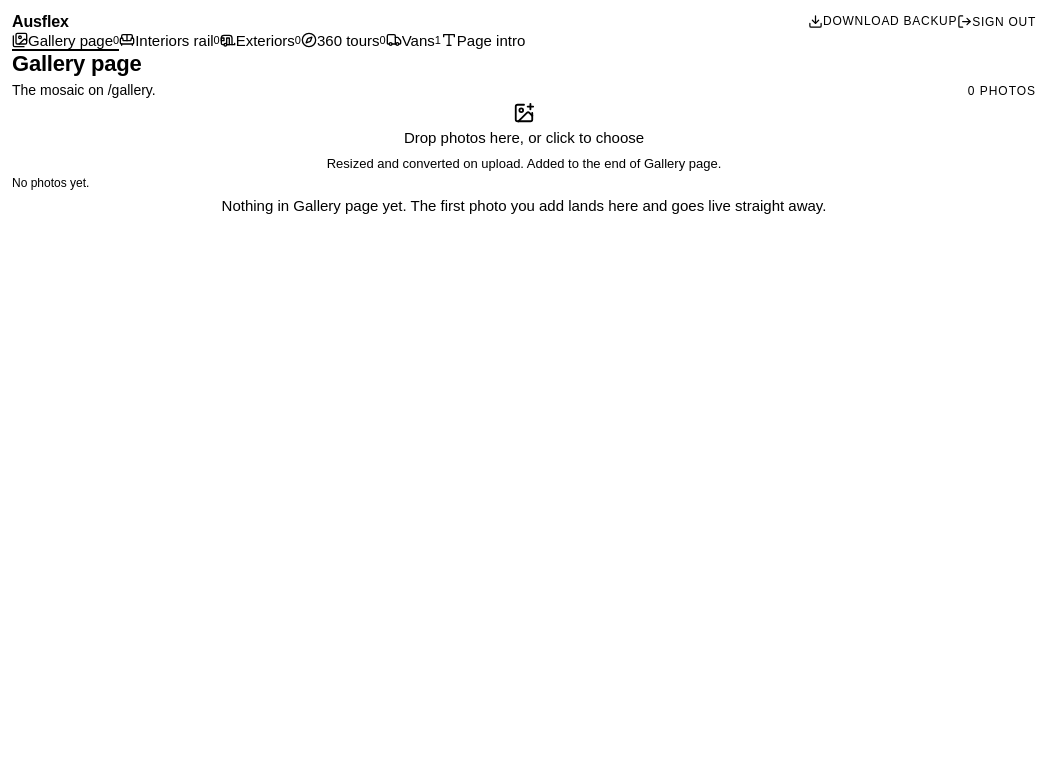
Test: AdminPage — vans › opens the editor with the van already filled in
Step 1. Click the tab "Vans 1" → (413, 41), box left=386, top=32, right=441, bottom=51
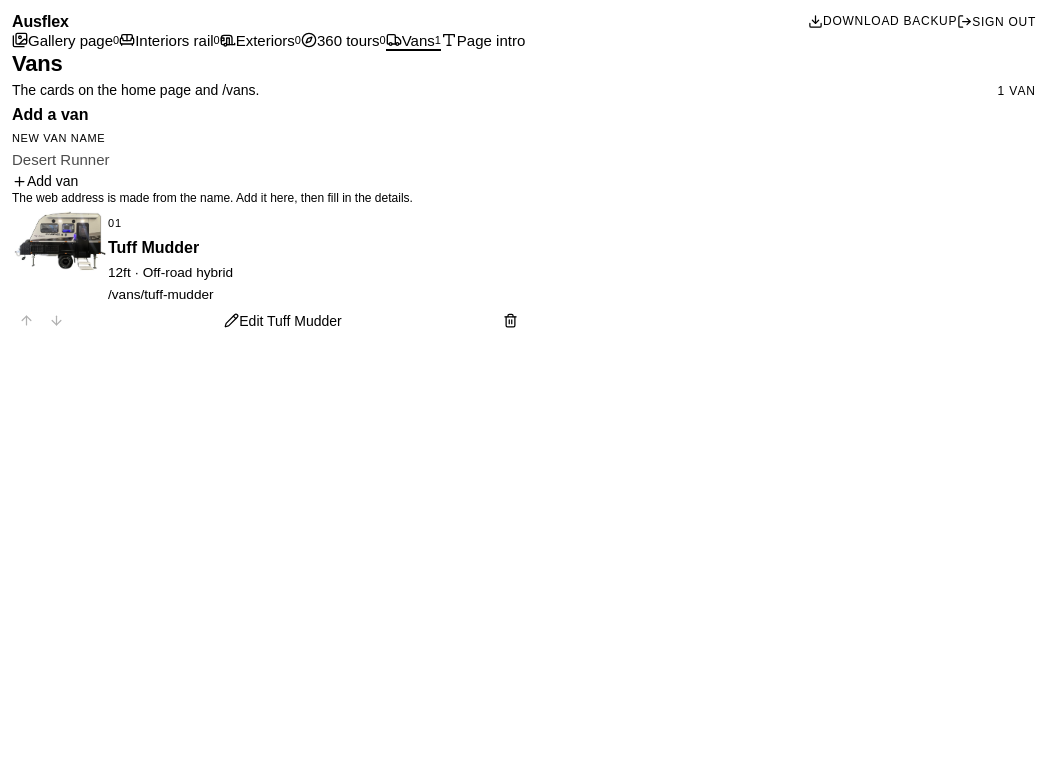
Step 2. Click the button "Edit Tuff Mudder" → (283, 321), box left=224, top=313, right=342, bottom=329
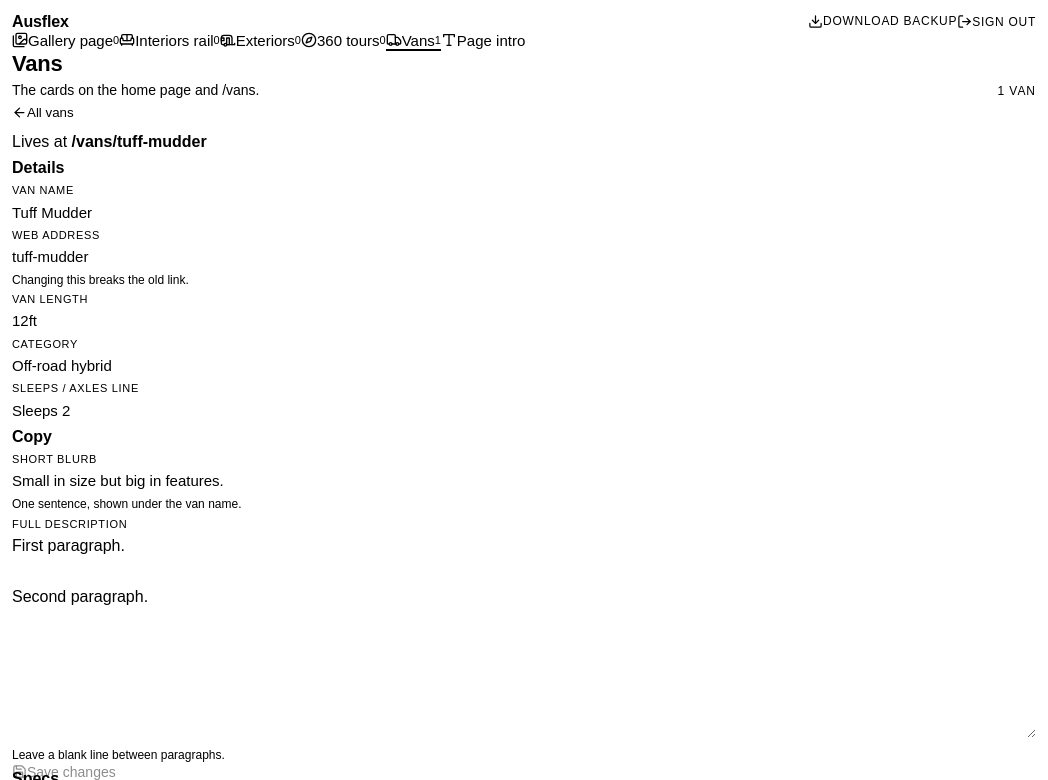
Expected: the field labelled "Van name" holds "Tuff Mudder", left=12, top=204, right=1036, bottom=221
Expected: the field labelled "Web address" holds "tuff-mudder", left=12, top=248, right=1036, bottom=265
Expected: the field labelled "Short blurb" holds "Small in size but big in features.", left=12, top=472, right=1036, bottom=489
